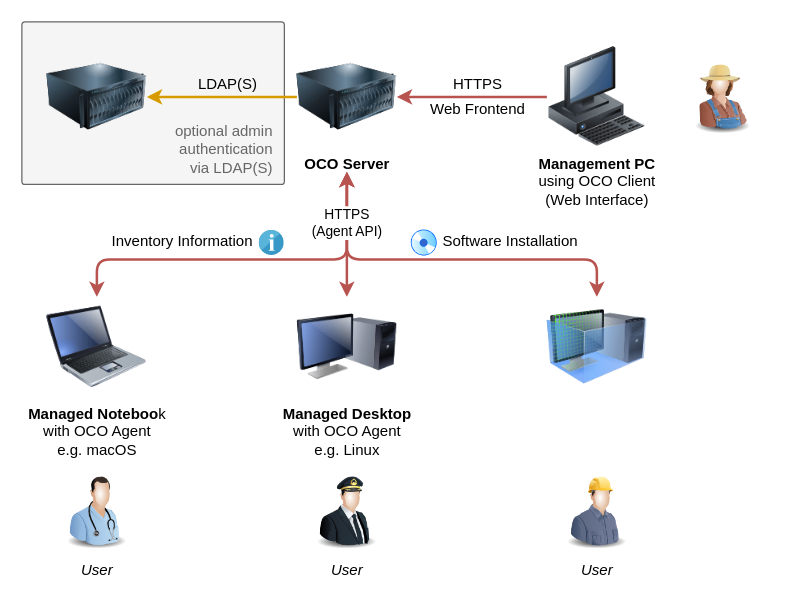
Some shapes in this 788 by 601 pixel diagram are drawn without their labels. Here are the shapes that lost their labels. From the top down, the centre of each, then its label:
the point at 96,96: LDAP Server
the point at 721,96: Administrator
the point at 596,346: Managed VM with OCO Agent e.g. Windows
